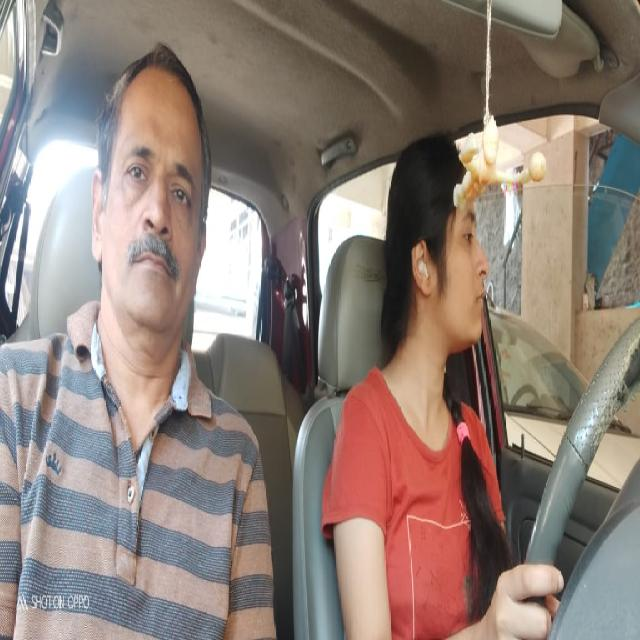LeftRight: (383, 124, 492, 347)
person: (86, 39, 214, 358)
